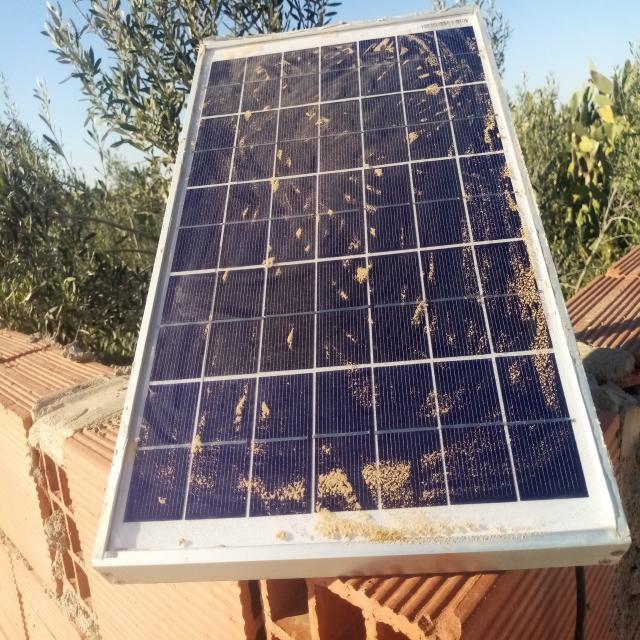faulty: (95, 4, 631, 564)
